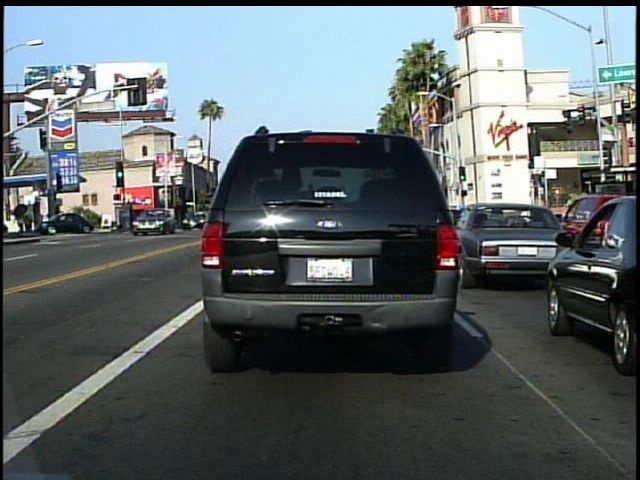person: (9, 200, 33, 239)
